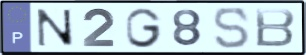2: (81, 6, 118, 49)
8: (171, 8, 204, 47)
B: (253, 7, 298, 49)
G: (124, 6, 164, 49)
N: (35, 8, 77, 48)
S: (212, 6, 252, 50)
